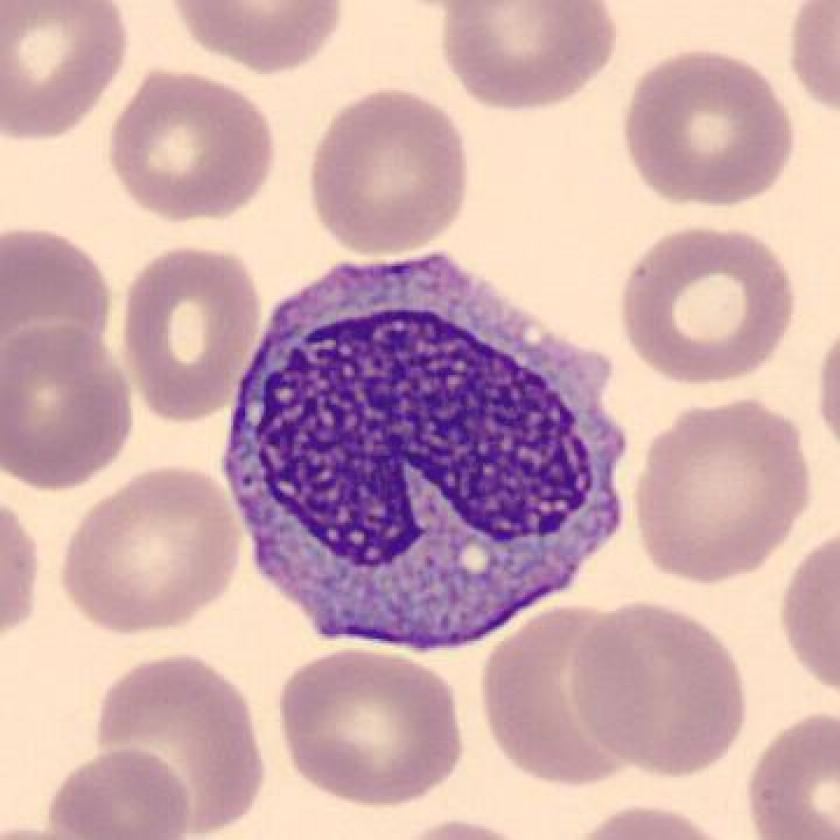monocyte: (211, 230, 650, 668)
